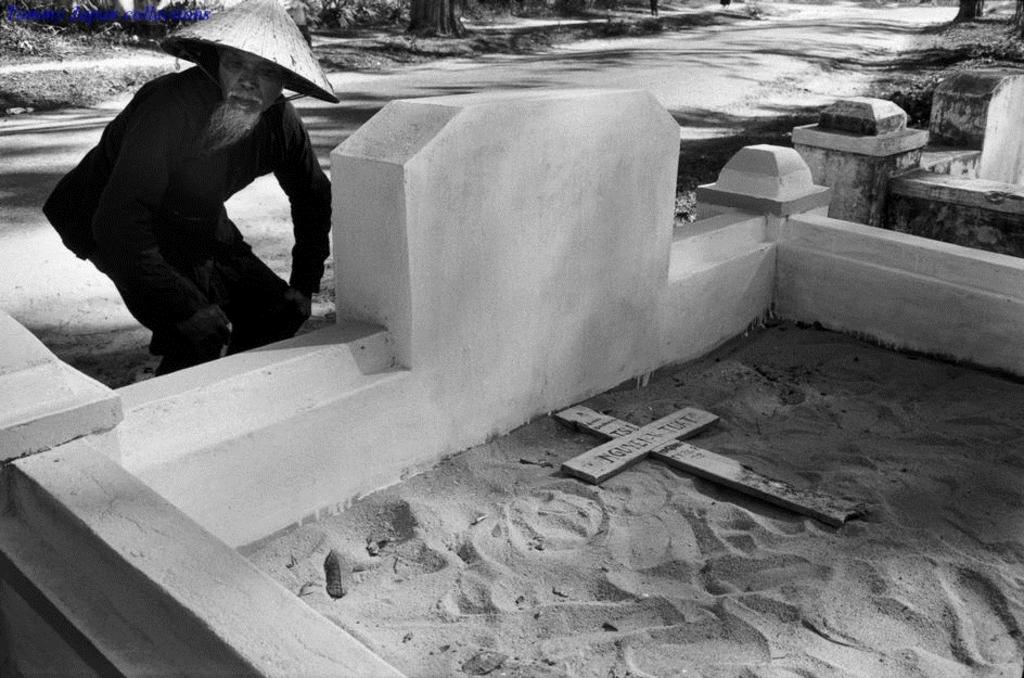Hat: (151, 0, 339, 110)
